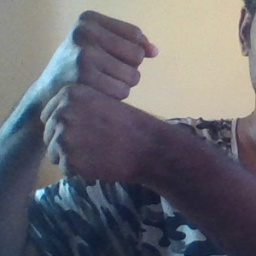G: (32, 4, 163, 187)
